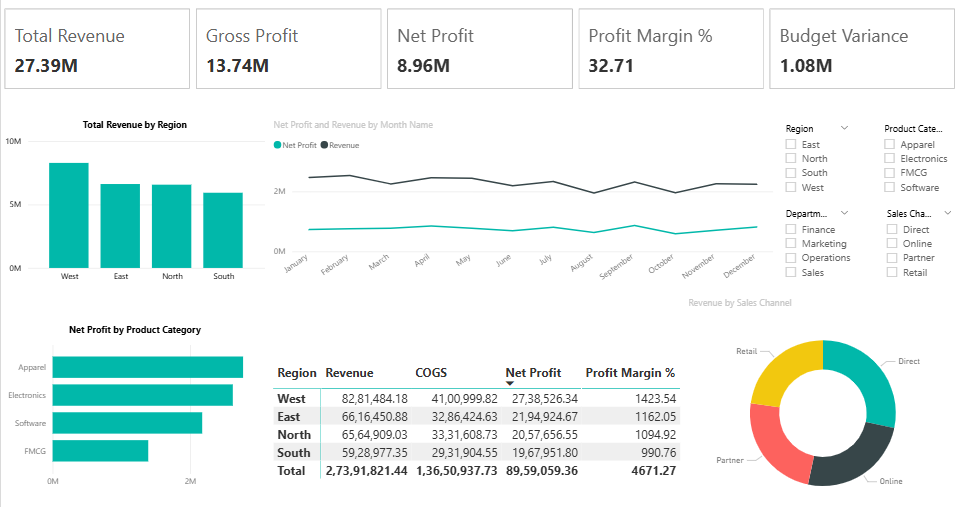

What the dashboard file says about the page in this screenshot:
{"tool":"powerbi","page":{"name":"Financial KPI Overview","canvas":[1280,720],"ordinal":0},"visuals":[{"type":"cardVisual","fields":{"Data":["_Measures.Total Revenue","_Measures.Gross Profit","_Measures.Net Profit","_Measures.Profit Margin %","_Measures.Budget Variance"]},"box":[0,0,1280,117.1],"z":0},{"type":"clusteredColumnChart","fields":{"Category":["FinancialData.Region"],"Y":["_Measures.Total Revenue"]},"box":[0,151.4,357.1,227.1],"z":1000},{"type":"clusteredBarChart","fields":{"Category":["FinancialData.Product Category"],"Y":["Sum(FinancialData.Net Profit)"]},"box":[0,424.5,357,227],"z":2000},{"type":"lineChart","fields":{"Category":["DateTable.Month Name"],"Y":["Sum(FinancialData.Net Profit)","Sum(FinancialData.Revenue)"]},"box":[357.5,151.2,676.2,227.5],"z":3000},{"type":"donutChart","fields":{"Y":["Sum(FinancialData.Revenue)"],"Category":["FinancialData.Sales Channel"]},"box":[911.2,388.8,368.8,296.2],"z":4000},{"type":"pivotTable","fields":{"Rows":["FinancialData.Region"],"Values":["Sum(FinancialData.Revenue)","Sum(FinancialData.COGS)","Sum(FinancialData.Net Profit)","Sum(FinancialData.Profit Margin %)"]},"box":[357.5,471.2,570,170],"z":5000},{"type":"slicer","fields":{"Values":["FinancialData.Region"]},"box":[1033.8,151.2,108.8,113.8],"z":6000},{"type":"slicer","fields":{"Values":["FinancialData.Department"]},"box":[1033.8,265,108.8,150],"z":7000},{"type":"slicer","fields":{"Values":["FinancialData.Product Category"]},"box":[1165,151.2,115,113.8],"z":8000},{"type":"slicer","fields":{"Values":["FinancialData.Sales Channel"]},"box":[1168.8,265,111.2,108.8],"z":9000}]}

Visuals, with their boxes on the page's 1280x720 design canvas (x1, y1, x2, y2). These are canvas units, not pixel positions in the 958x507 screenshot, which may show the page scaled, cropped or inside an application window:
cardVisual - _Measures.Total Revenue x _Measures.Gross Profit: <bbox>0, 0, 1280, 117</bbox>
clusteredColumnChart - FinancialData.Region x _Measures.Total Revenue: <bbox>0, 151, 357, 378</bbox>
clusteredBarChart - FinancialData.Product Category x Sum(FinancialData.Net Profit): <bbox>0, 424, 357, 652</bbox>
lineChart - DateTable.Month Name x Sum(FinancialData.Net Profit): <bbox>358, 151, 1034, 379</bbox>
donutChart - Sum(FinancialData.Revenue) x FinancialData.Sales Channel: <bbox>911, 389, 1280, 685</bbox>
pivotTable - FinancialData.Region x Sum(FinancialData.Revenue): <bbox>358, 471, 928, 641</bbox>
slicer - FinancialData.Region: <bbox>1034, 151, 1143, 265</bbox>
slicer - FinancialData.Department: <bbox>1034, 265, 1143, 415</bbox>
slicer - FinancialData.Product Category: <bbox>1165, 151, 1280, 265</bbox>
slicer - FinancialData.Sales Channel: <bbox>1169, 265, 1280, 374</bbox>
